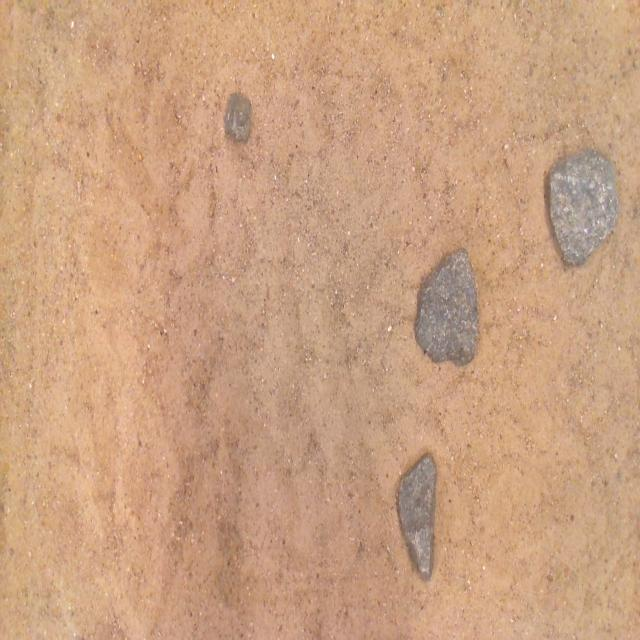rock: (549, 149, 619, 264), (415, 249, 477, 366), (398, 455, 436, 580), (224, 92, 251, 140)
